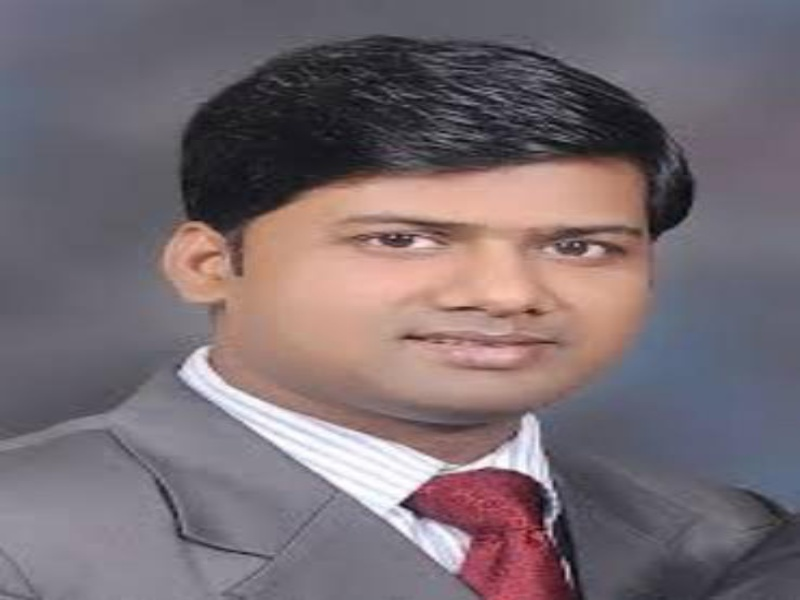TsisyArotava: (169, 90, 711, 455)
